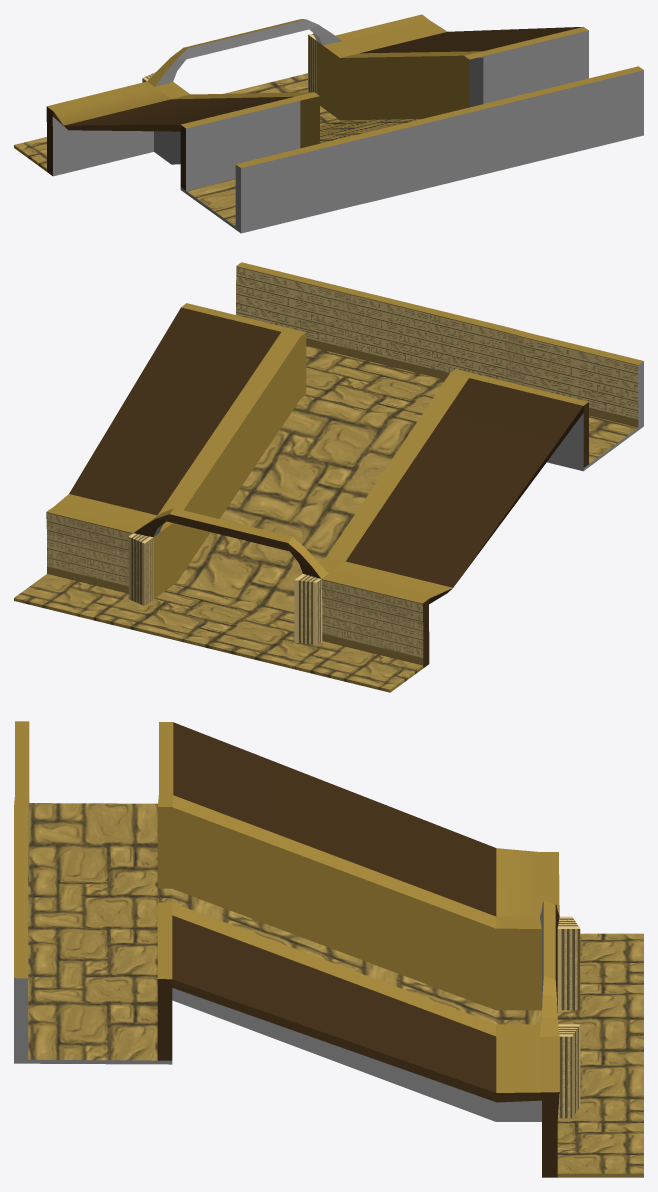
Rendered from SM_BallTrack.FBX.
3 views of the same model, one above another, from view 1: azimuth 30°, elevation 25°; view 2: azimuth 150°, elevation 25°; view 3: azimuth 270°, elevation 25° (orthographic). The views are drawn at different scales.
Parts seen in each view (by area): view 1: Box001; view 2: Box001; view 3: Box001.
Part boxes in pixels (x1,y1,x2,y2): Box001: (14, 14, 643, 233); Box001: (14, 262, 643, 692); Box001: (14, 721, 643, 1177).
Bounding box in the file's own units: 576 × 217 × 597.
